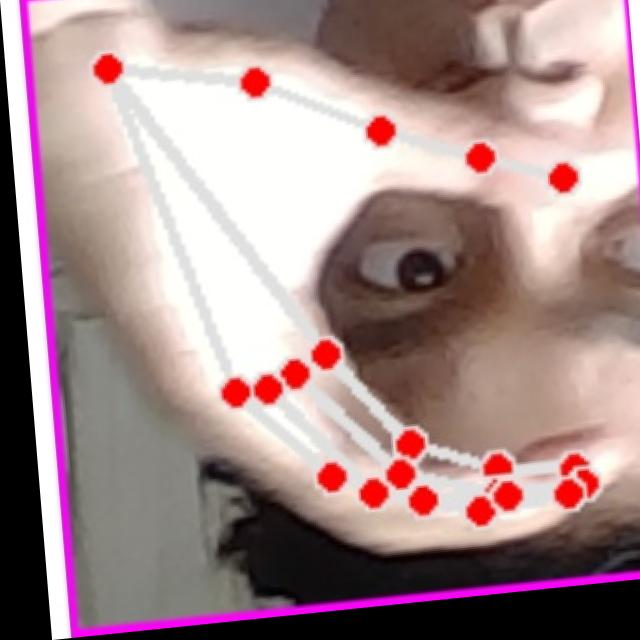C: (41, 0, 638, 602)
